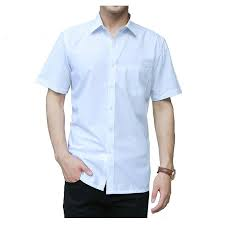S_shirt: (38, 10, 182, 195)
